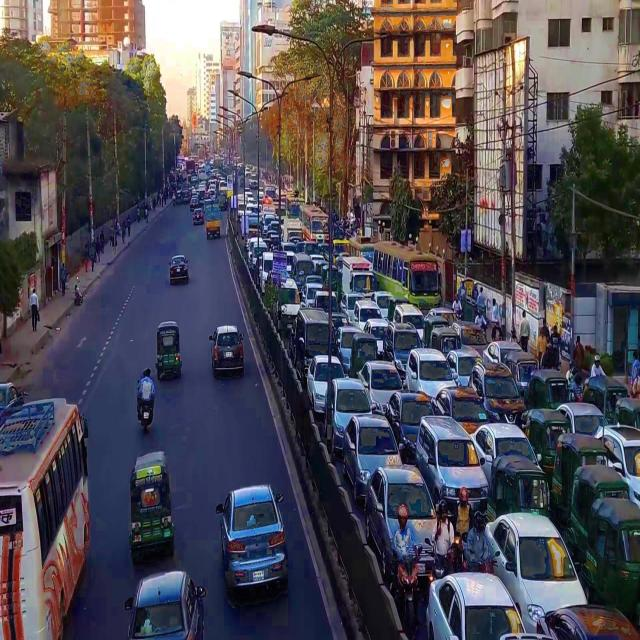black: (124, 574, 205, 640), (468, 363, 530, 425), (387, 390, 436, 467), (288, 310, 338, 379), (436, 385, 487, 438), (384, 319, 419, 370), (454, 319, 490, 357)
maroon: (209, 323, 244, 378), (169, 253, 190, 290), (194, 207, 204, 226)
silver: (360, 470, 447, 584), (219, 474, 287, 602), (410, 418, 488, 518), (341, 419, 406, 494), (358, 363, 406, 412), (336, 324, 364, 369)
white: (484, 515, 591, 640), (428, 569, 525, 640), (474, 419, 546, 505), (595, 421, 640, 511), (405, 346, 452, 393), (306, 355, 344, 413), (390, 305, 426, 343), (275, 279, 301, 331), (352, 302, 382, 334), (364, 318, 387, 356), (260, 252, 282, 291)
